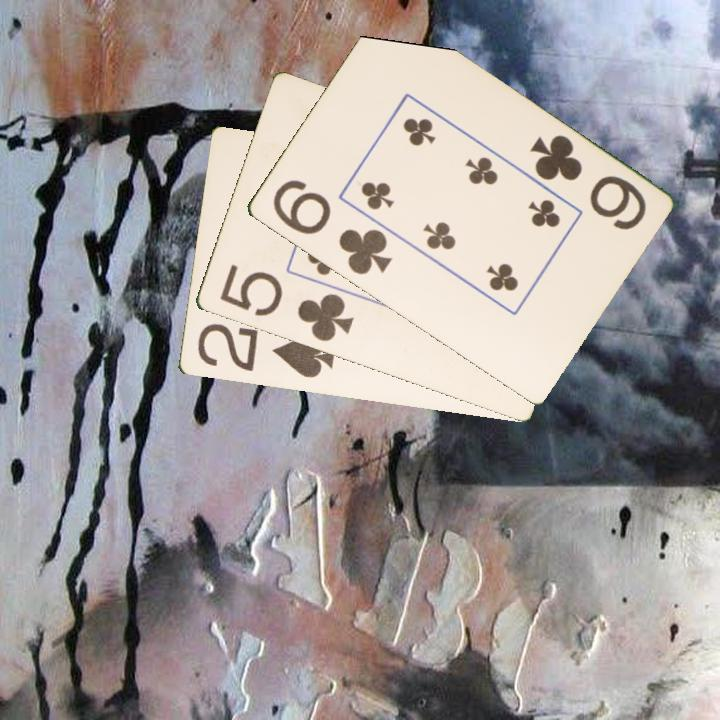2s: (193, 320, 337, 381)
5c: (216, 261, 357, 345)
6c: (268, 175, 395, 278), (526, 131, 649, 234)
